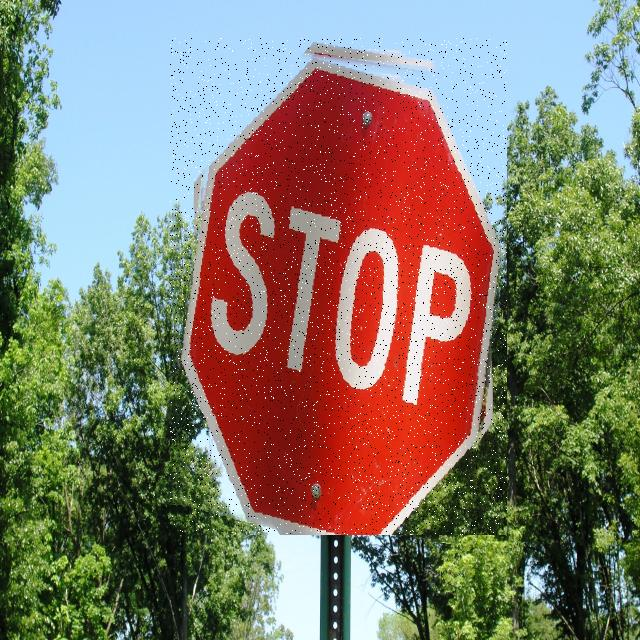stop: (170, 38, 507, 535)
